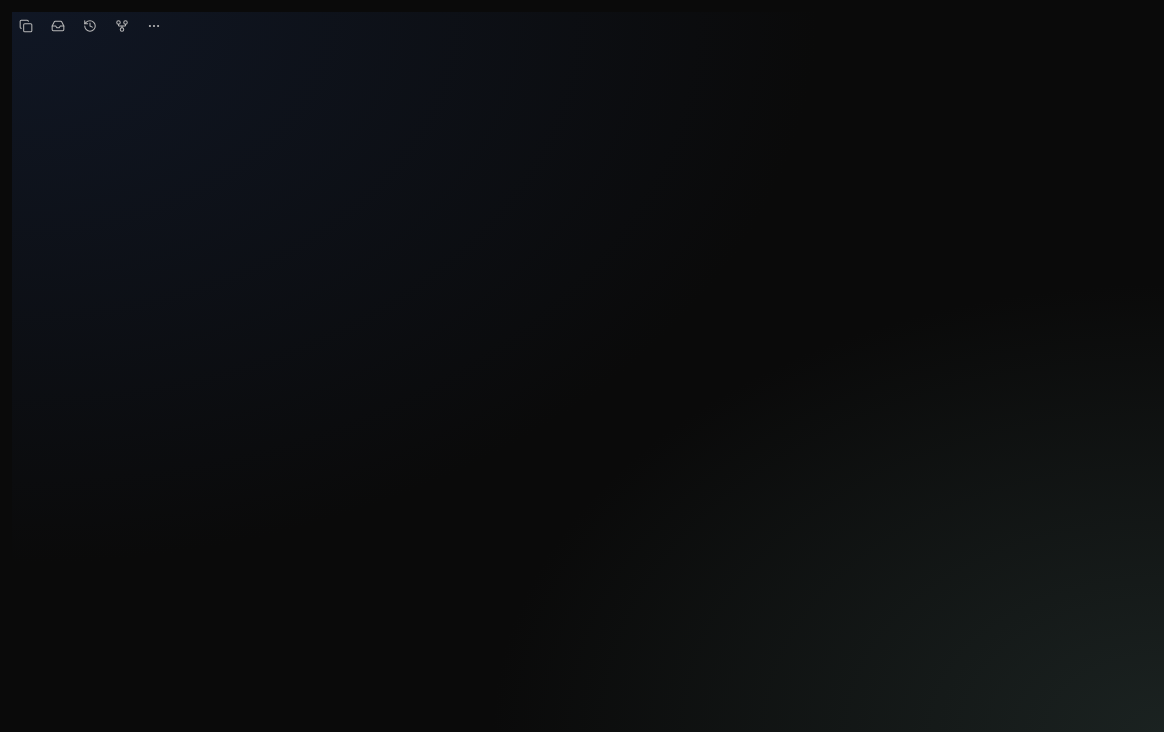
Test: MessageActions copy › copies the whole turn from its last reply
Click the button with test id "message-more" at (154, 26), box [140,12,168,40]
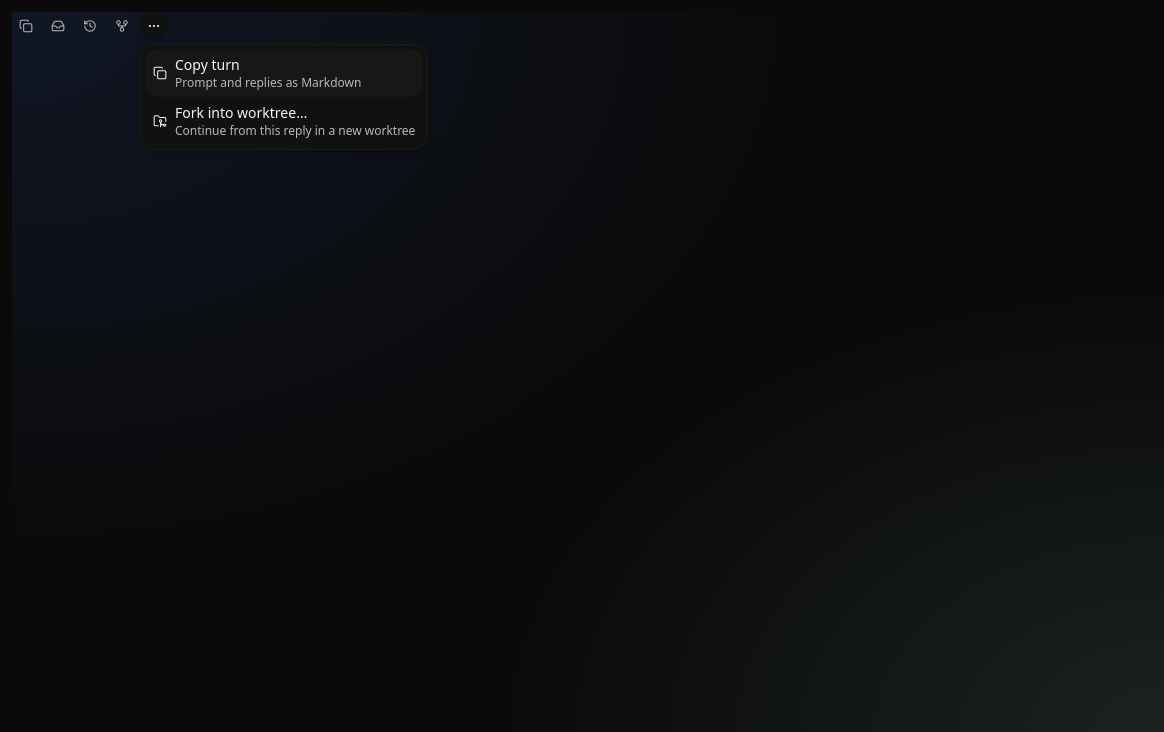
Click the menu item with test id "turn-copy" at (284, 73), box [145,49,423,97]
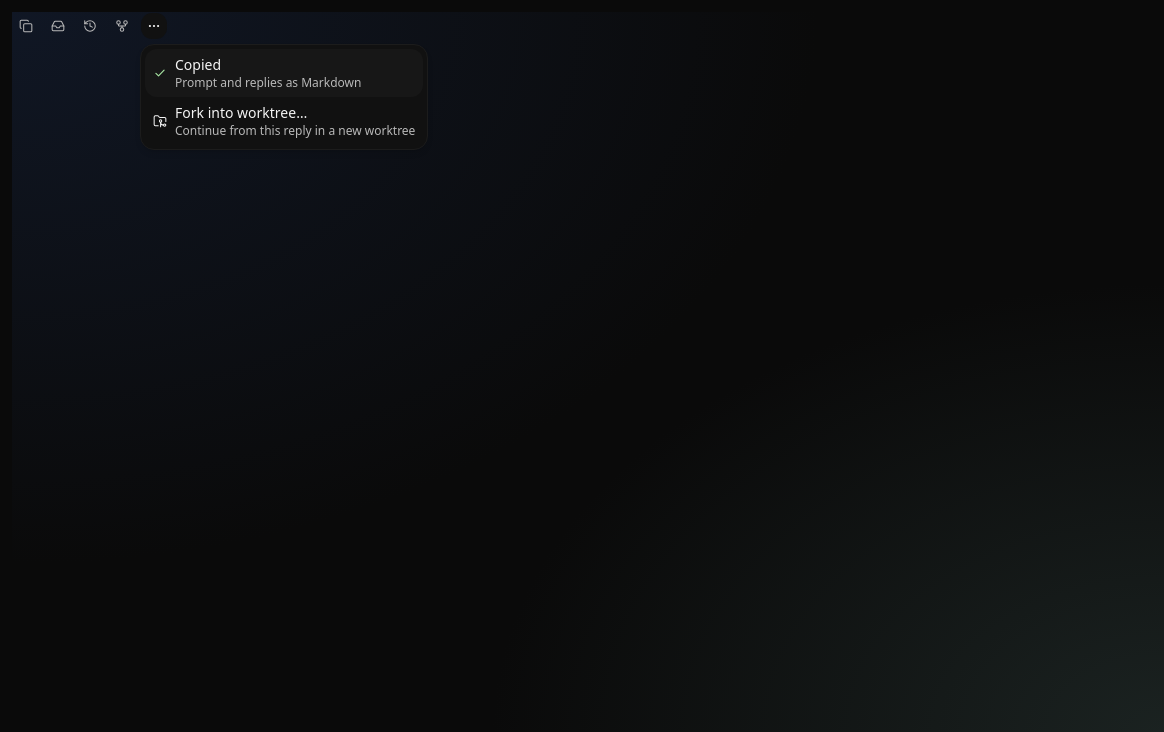
Now the menu item "Copied Prompt and replies as Markdown" is shown, box [145,49,423,97]
